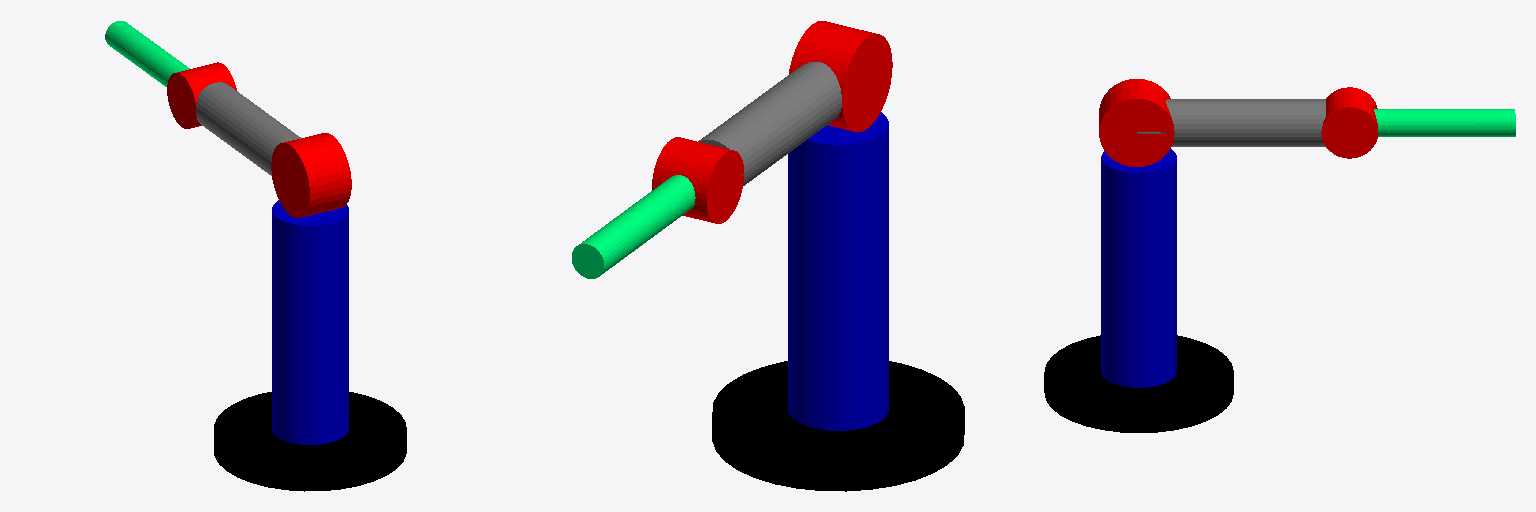
robot.urdf — arm:
<?xml version="1.0"?>
<robot name="arm">

    <link name="world"/>
    <link name="base_link">
        <visual>
            <geometry>
                <cylinder length="0.05" radius="0.2"/>
            </geometry>
            <material name="Black">
                <color rgba="0 0 0 1"/>
            </material>
            <origin rpy="0 0 0" xyz="0 0 0.025"/>
        </visual>

        <collision>
            <geometry>
                <cylinder length="0.05" radius="0.2"/>
            </geometry>
            <origin rpy="0 0 0" xyz="0 0 0.025"/>
        </collision>

        <inertial>
            <origin rpy="0 0 0" xyz="0 0 0.025"/>
            <mass value="5.0"/>
            <inertia ixx="0.0135" ixy="0.0" ixz="0.0" iyy="0.0135" iyz="0.0" izz="0.05"/>
        </inertial>
    </link>

    <joint name="fixed" type="fixed">
        <parent link="world"/>
        <child link="base_link"/>
        <dynamics damping="10" friction="1.0"/>
    </joint>

    <link name="link_1">
        <visual>
            <geometry>
                <cylinder length="0.5" radius="0.08"/>
            </geometry>
            <material name="blue">
                <color rgba="0 0 0.8 1"/>
            </material>
            <origin rpy="0 0 0" xyz="0 0 0.25"/>
        </visual>

        <collision>
            <geometry>
                <cylinder length="0.5" radius="0.08"/>
            </geometry>
            <origin rpy="0 0 0" xyz="0 0 0.25"/>
        </collision>
        
        <inertial>
            <origin rpy="0 0 0" xyz="0 0 0.25"/>
            <mass value="5.0"/>
            <inertia ixx="0.107" ixy="0.0" ixz="0.0" iyy="0.107" iyz="0.0" izz="0.0125"/>
        </inertial>

    </link>
  
    <joint name="joint_1" type="continuous">
        <axis xyz="0 0 1"/>
        <parent link="base_link"/>
        <child link="link_1"/>
        <origin rpy="0 0 0" xyz="0.0 0.0 0.05"/>
        <dynamics damping="10" friction="1.0"/>
    </joint>

    <link name="link_2">
        <inertial>
            <origin rpy="0 0 0" xyz="0 0 0.2"/>
            <mass value="2.0"/>
            <inertia ixx="0.027" ixy="0.0" ixz="0.0" iyy="0.027" iyz="0.0" izz="0.0025"/>
        </inertial>

        <visual>
            <geometry>
            <cylinder length="0.1" radius="0.08"/>
            </geometry>
            <material name="Red">
                <color rgba="1 0 0 1"/>
            </material>
        </visual>

        <collision>
            <geometry>
                <cylinder length="0.1" radius="0.08"/>
            </geometry>
        </collision>
    </link>

    <joint name="joint_2" type="continuous">
        <axis xyz="0 0 1"/>
        <parent link="link_1"/>
        <child link="link_2"/>
        <origin rpy="0 1.5708 0" xyz="0.0 -0.005 0.58"/>
        <limit lower="-0.25" upper="3.34" effort="10" velocity="0.5"/>
        <dynamics damping="10" friction="1.0"/>
    </joint>

    <link name="link_3">
        <inertial>
            <origin rpy="0 0 0" xyz="0 0 0.2"/>
            <mass value="0.01"/>
            <inertia ixx="0.027" ixy="0.0" ixz="0.0" iyy="0.027" iyz="0.0" izz="0.0025"/>
        </inertial>
        
        <visual>
            <geometry>
            <cylinder length="0.4" radius="0.05"/>
            </geometry>
            <material name="blue">
                <color rgba="0.5 0.5 0.5 1"/>
            </material>
        </visual>

        <collision>
            <geometry>
                <cylinder length="0.4" radius="0.05"/>
            </geometry>
        </collision>
    </link>

    <joint name="joint_3" type="fixed">
        <parent link="link_2"/>
        <child link="link_3"/>
        <origin rpy="1.57 0 0" xyz="0.0 0.2 0 "/>
        <dynamics damping="10" friction="1.0"/>
    </joint>

    <link name="link_4">
        <inertial>
            <origin rpy="0 0 0" xyz="0 0 0.2"/>
            <mass value="0.01"/>
            <inertia ixx="0.027" ixy="0.0" ixz="0.0" iyy="0.027" iyz="0.0" izz="0.0025"/>
        </inertial>

        <visual>
            <geometry>
            <cylinder length="0.1" radius="0.06"/>
            </geometry>
            <material name="Red">
                <color rgba="1 0 0 1"/>
            </material>
        </visual>

        <collision>
            <geometry>
                <cylinder length="0.1" radius="0.06"/>
            </geometry>
        </collision>

    </link>

    <joint name="joint_4" type="continuous">
        <parent link="link_3"/>
        <child link="link_4"/>
        <origin rpy="1.57 0 0" xyz=" 0 0 -0.25"/>
        <axis xyz=" 0 0 1"/>
        <limit lower="-1.92" upper="1.92" effort="10" velocity="0.5"/>
        <dynamics damping="10" friction="1.0"/>
    </joint>

    <link name="link_5">
        <inertial>
            <origin rpy="0 0 0" xyz="0 0 0.2"/>
            <mass value="0.01"/>
            <inertia ixx="0.027" ixy="0.0" ixz="0.0" iyy="0.027" iyz="0.0" izz="0.0025"/>
        </inertial>
        
        <visual>
            <geometry>
            <cylinder length="0.3" radius="0.03"/>
            </geometry>
            <material name="yello">
                <color rgba="0 1 0.5 1"/>
            </material>
            </visual>

        <collision>
            <geometry>
                <cylinder length="0.3" radius="0.03"/>
            </geometry>
        <dynamics damping="0.0" friction="0.0"/>
        
        </collision>
    </link>

    <joint name="joint_5" type="fixed">
        <parent link="link_4"/>
        <child link="link_5"/>
        <origin rpy="1.57 0 0" xyz="0.0 -0.2 0 "/>
        <dynamics damping="10" friction="1.0"/>
    </joint>

    <gazebo reference="base_link">
        <material>Gazebo/Black</material>
    </gazebo>

    <gazebo reference="link_1">
        <material>Gazebo/White</material>
    </gazebo>

    <gazebo reference="link_3">
        <material>Gazebo/White</material>
    </gazebo>

    <gazebo reference="link_2">
        <material>Gazebo/Blue</material>
    </gazebo>

    <gazebo reference="link_4">
        <material>Gazebo/Blue</material>
    </gazebo>

    <gazebo reference="link_5">
        <material>Gazebo/White</material>
    </gazebo>



    <gazebo>
    <plugin filename="libgazebo_ros2_control.so" name="gazebo_ros2_control">
        <robot_sim_type>gazebo_ros2_control/GazeboSystem</robot_sim_type>
        <parameters>[local-path]/ros2_ws/src/lab5/config/control.yaml</parameters>
    </plugin>
    </gazebo>

    <ros2_control name="GazeboSystem" type="system">
        <hardware>
        <plugin>gazebo_ros2_control/GazeboSystem</plugin>
    </hardware>


    <joint name="joint_1">
        <command_interface name="position">
        <param name="min">-3.14</param>
        <param name="max">3.14</param>
        </command_interface>
        <state_interface name="position"/>
        <param name="initial_position">0.0</param>  
    </joint>
    <joint name="joint_2">
        <command_interface name="position">
        <param name="min">-3.14</param>
        <param name="max">3.14</param>
        </command_interface>
        <state_interface name="position"/>
        <param name="initial_position">-1.57</param>  
    </joint>
    <joint name="joint_4">
        <command_interface name="position">
        <param name="min">-3.14</param>
        <param name="max">3.14</param>
        </command_interface>
        <state_interface name="position"/>
        <param name="initial_position">0.0</param>  
    </joint>

    </ros2_control>

</robot>

--- Render facts (derived) ---
The picture shows the robot from 3 angles, left to right: view 1: azimuth 30°, elevation 25°; view 2: azimuth 150°, elevation 25°; view 3: azimuth 270°, elevation 25°; orthographic projection.
Model arm with 7 links and 6 joints (3 continuous, 3 fixed), rooted at world, posed every joint at zero.
Visible links, largest first — view 1: link_1, base_link, link_2, link_3, link_5, link_4; view 2: link_1, base_link, link_3, link_2, link_5, link_4; view 3: link_1, base_link, link_3, link_2, link_5, link_4.
Link boxes in pixels (x1,y1,x2,y2): link_1: (272,200,348,444); base_link: (214,392,406,491); link_2: (271,133,351,217); link_3: (196,82,300,175); link_5: (105,21,189,86); link_4: (167,62,236,128); link_1: (788,112,888,430); base_link: (712,361,964,491); link_3: (698,62,841,185); link_2: (789,21,892,132); link_5: (572,175,695,278); link_4: (652,137,743,223); link_1: (1101,148,1176,387); base_link: (1044,335,1233,432); link_3: (1137,99,1325,146); link_2: (1099,79,1174,166); link_5: (1374,109,1515,136); link_4: (1321,87,1377,158).
Bounding box of the posed robot: 0.4 × 0.9951 × 0.71 m (x, y, z).
Geometry: primitives only (box / cylinder / sphere), no mesh files.